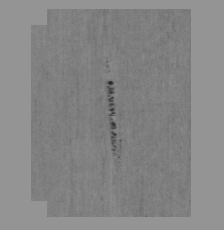oxl: (35, 10, 189, 220)
